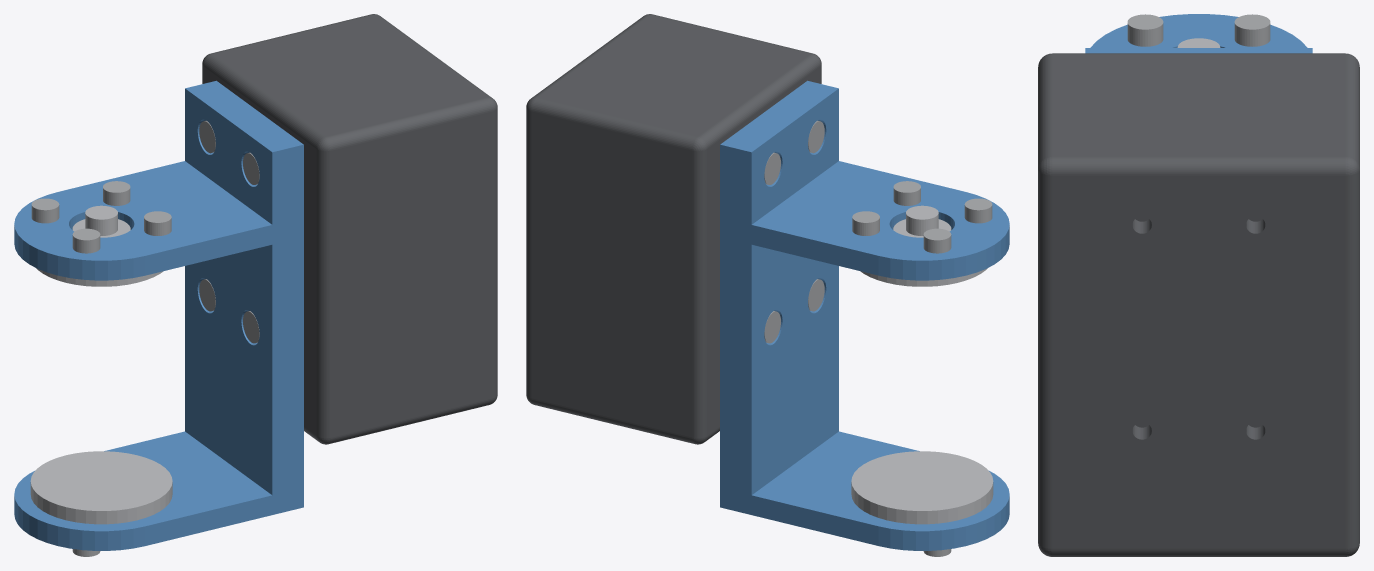
The model's file is ankle_pitch.glb.
3 renders of one model, left to right at view 1: azimuth 30°, elevation 25°; view 2: azimuth 150°, elevation 25°; view 3: azimuth 270°, elevation 25°, orthographic. The views are drawn at different scales.
Parts seen in each view (by area): view 1: geometry_2, geometry_15, geometry_1, geometry_0, geometry_7, geometry_8, geometry_9, geometry_10; view 2: geometry_2, geometry_15, geometry_1, geometry_0, geometry_8, geometry_7, geometry_10, geometry_9; view 3: geometry_2, geometry_15, geometry_7, geometry_8.
Part boxes in pixels (bbox=[...]): geometry_2: bbox=[202, 14, 497, 444]; geometry_15: bbox=[14, 80, 303, 550]; geometry_1: bbox=[30, 451, 172, 524]; geometry_0: bbox=[36, 205, 162, 286]; geometry_7: bbox=[31, 198, 59, 223]; geometry_8: bbox=[72, 228, 100, 253]; geometry_9: bbox=[144, 211, 171, 235]; geometry_10: bbox=[103, 181, 130, 205]; geometry_2: bbox=[526, 14, 821, 444]; geometry_15: bbox=[720, 80, 1009, 550]; geometry_1: bbox=[851, 451, 993, 524]; geometry_0: bbox=[861, 205, 987, 286]; geometry_8: bbox=[964, 198, 992, 223]; geometry_7: bbox=[923, 228, 951, 253]; geometry_10: bbox=[852, 211, 879, 235]; geometry_9: bbox=[893, 181, 920, 205]; geometry_2: bbox=[1038, 53, 1359, 556]; geometry_15: bbox=[1085, 14, 1312, 53]; geometry_7: bbox=[1234, 14, 1270, 46]; geometry_8: bbox=[1127, 14, 1163, 46].
Bounding box in the file's own units: 0.0656 × 0.0593 × 0.034.
